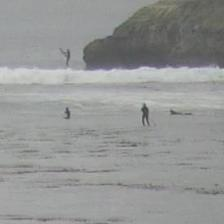surfer: (140, 103, 150, 126), (62, 49, 70, 67), (170, 110, 192, 115), (63, 107, 71, 120)
